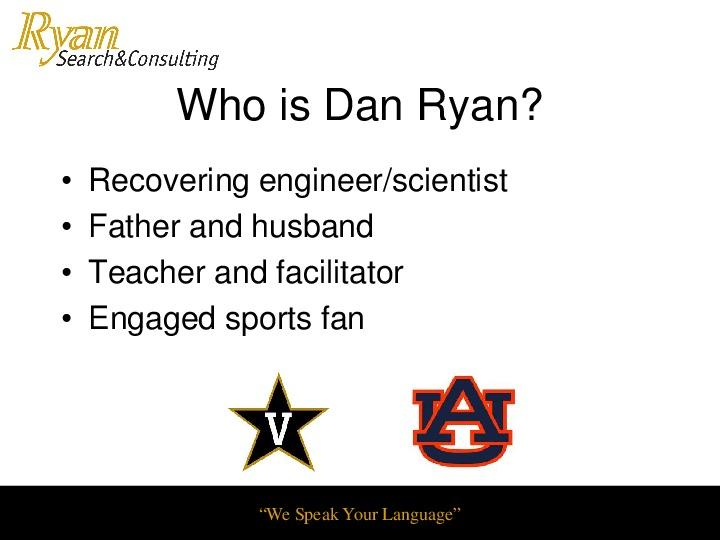paragraph: (38, 150, 585, 359)
subtitle: (170, 77, 559, 147)
title: (13, 1, 256, 81)
